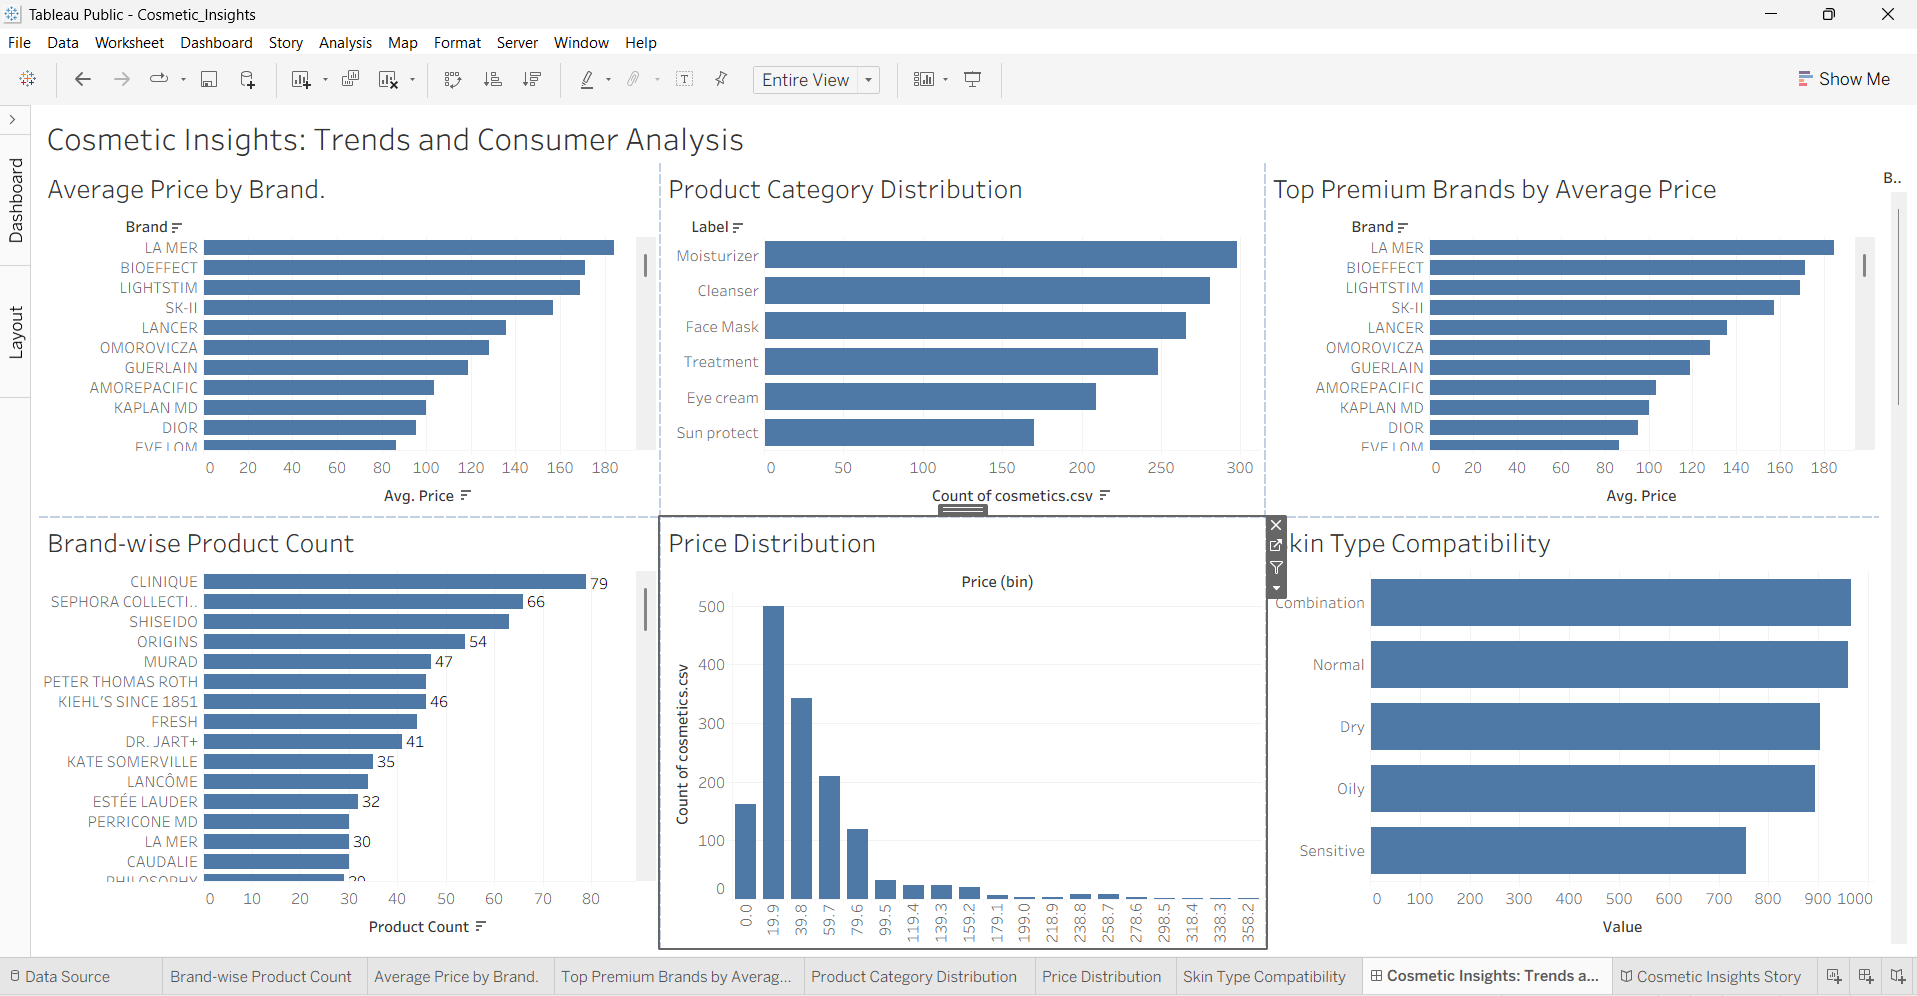

The dashboard page shown, as its layout file describes it:
{"tool":"tableau","page":{"name":"Cosmetic Insights: Trends and Consumer Analysis","canvas":[1000,1000],"units":"permille","ordinal":0},"visuals":[{"type":"title","box":[4.8,9.4,990.3,58.8]},{"type":"worksheet","title":"Average Price by Brand.","mark":"Automatic","rows":["Brand"],"cols":["Price"],"box":[4.8,68.2,327.7,416]},{"type":"worksheet","title":"Product Category Distribution","mark":"Automatic","rows":["Label"],"cols":["cosmetics.csv_585BB81CEEA14193A20C1847C85ECAB8"],"box":[332.6,68.2,319.6,416]},{"type":"worksheet","title":"Top Premium Brands by Average Price","mark":"Automatic","rows":["Brand"],"cols":["Price"],"box":[652.1,68.2,323.8,416]},{"type":"filter","title":"Top Premium Brands by Average Price","param":"[federated.0yj58u11dmwcjw12x2evs0mirasq].[none:Brand:nk]","box":[975.9,68.2,19.3,922.5]},{"type":"worksheet","title":"Brand-wise Product Count","mark":"Automatic","rows":["Brand"],"cols":["cosmetics.csv_585BB81CEEA14193A20C1847C85ECAB8"],"box":[4.8,484.1,327.7,506.5]},{"type":"worksheet","title":"Price Distribution","mark":"Automatic","rows":["cosmetics.csv_585BB81CEEA14193A20C1847C85ECAB8"],"cols":["Price (bin)"],"box":[332.6,484.1,319.8,506.5]},{"type":"worksheet","title":"Skin Type Compatibility","mark":"Automatic","box":[652.4,484.1,323.5,506.5]}]}

Visuals, with their boxes on the dashboard's canvas, which has no fixed pixel size, in thousandths of its width and height (x1, y1, x2, y2). These are canvas units, not pixel positions in the 1917x996 screenshot, which may show the page scaled, cropped or inside an application window:
title: 5 9 995 68
"Average Price by Brand." worksheet: 5 68 332 484
"Product Category Distribution" worksheet: 333 68 652 484
"Top Premium Brands by Average Price" worksheet: 652 68 976 484
"Top Premium Brands by Average Price" filter: 976 68 995 991
"Brand-wise Product Count" worksheet: 5 484 332 991
"Price Distribution" worksheet: 333 484 652 991
"Skin Type Compatibility" worksheet: 652 484 976 991
